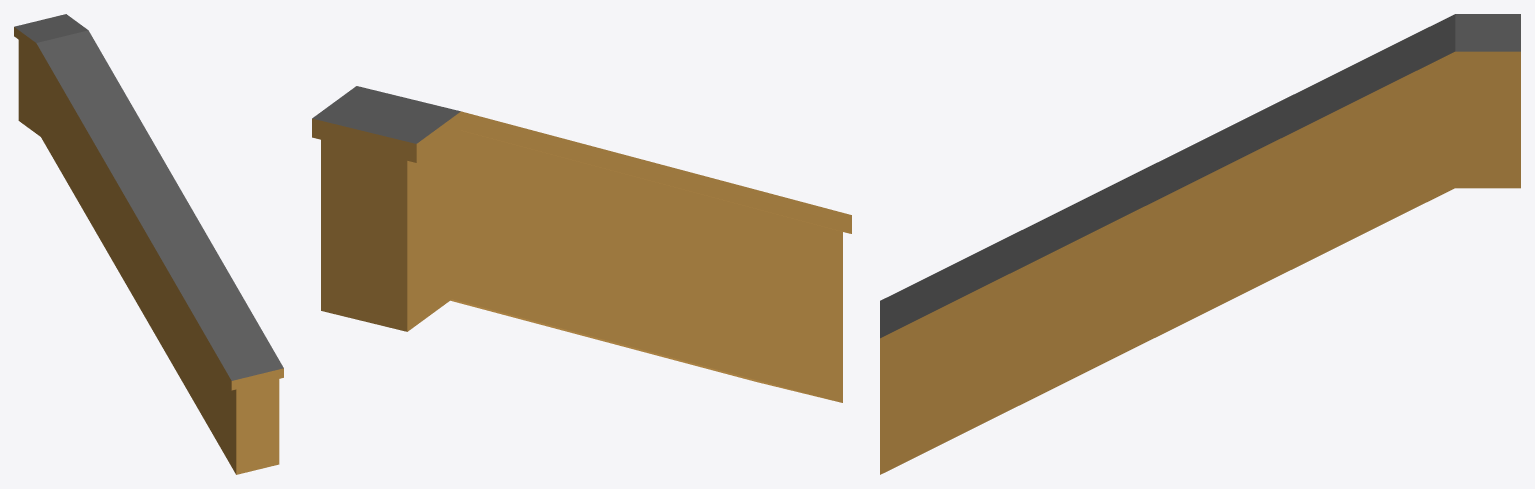
Rendered from Skate_Slide_Rail_Double_01.FBX.
3 views of the same model, side by side, from view 1: azimuth 30°, elevation 25°; view 2: azimuth 150°, elevation 25°; view 3: azimuth 270°, elevation 25° (orthographic). The views are drawn at different scales.
Visible parts, largest first — view 1: Skate_Slide_Rail_Double_01; view 2: Skate_Slide_Rail_Double_01; view 3: Skate_Slide_Rail_Double_01.
Part boxes in pixels (left/top/right/bottom): Skate_Slide_Rail_Double_01: left=14, top=14, right=283, bottom=474; Skate_Slide_Rail_Double_01: left=312, top=86, right=851, bottom=402; Skate_Slide_Rail_Double_01: left=880, top=14, right=1520, bottom=474.
Size of the model in its own units: 0.4157 by 2.2 by 3.
